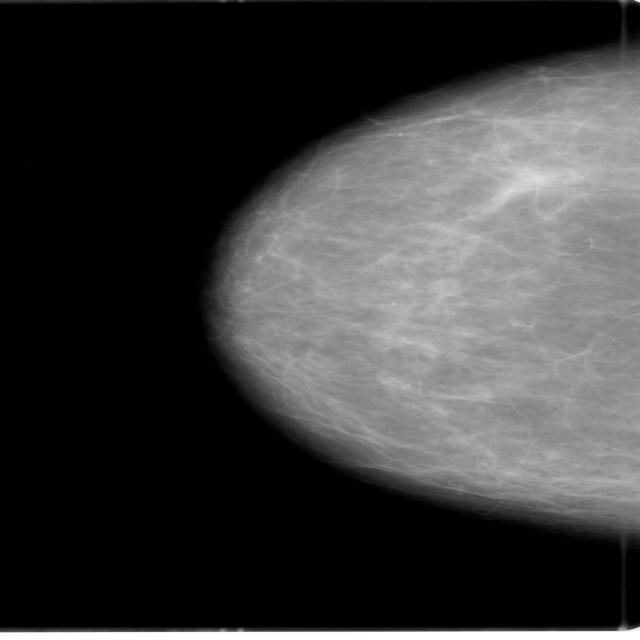normal: (163, 39, 640, 541)
